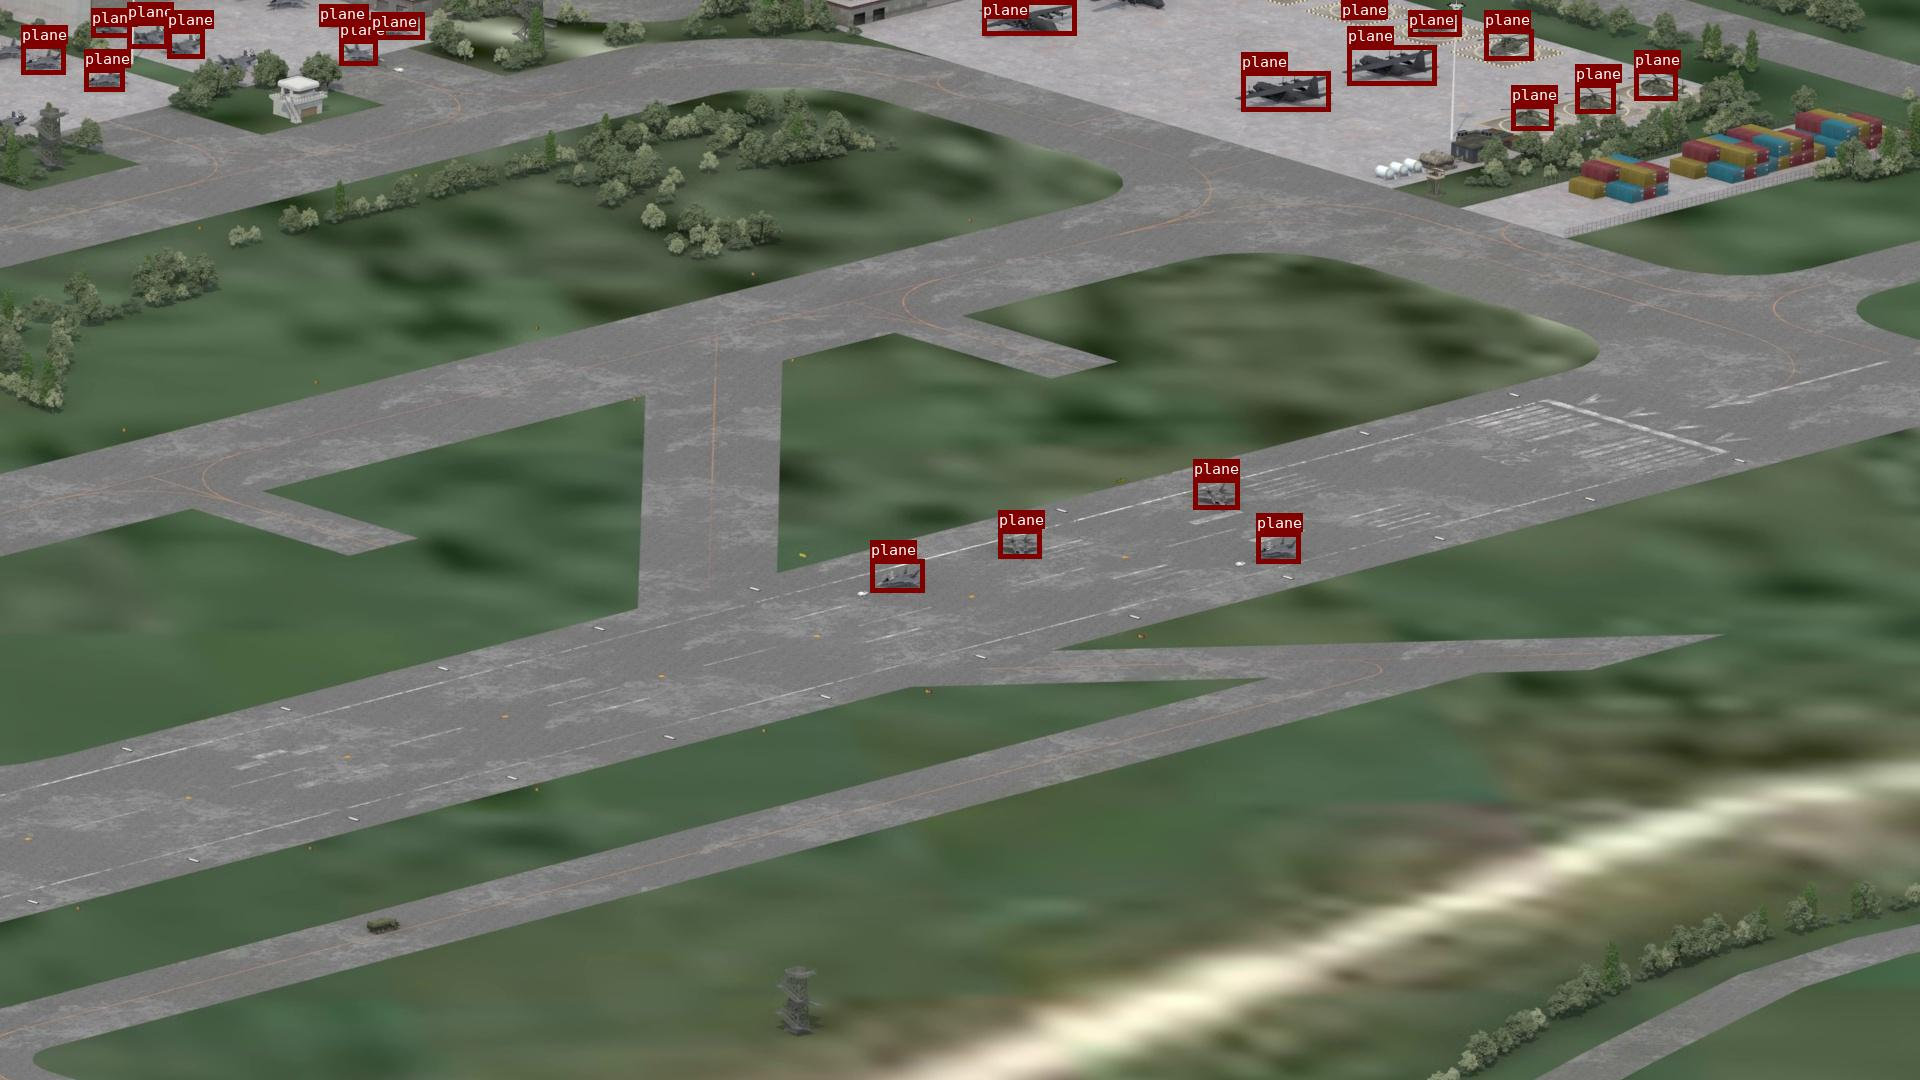plane: (1241, 71, 1331, 111), (1346, 45, 1436, 84), (982, 0, 1076, 36), (870, 559, 924, 592), (1484, 29, 1534, 61), (371, 12, 425, 40), (1193, 477, 1240, 509), (1255, 531, 1300, 563), (1634, 69, 1677, 100), (1408, 11, 1461, 36), (21, 44, 65, 74), (1575, 83, 1615, 113), (998, 529, 1040, 558), (91, 8, 131, 37), (1511, 104, 1553, 131), (319, 4, 368, 26), (127, 21, 167, 47), (167, 29, 204, 58), (339, 40, 377, 65), (84, 69, 124, 91), (1341, 0, 1385, 18)
